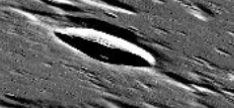crater: (35, 20, 168, 78)
